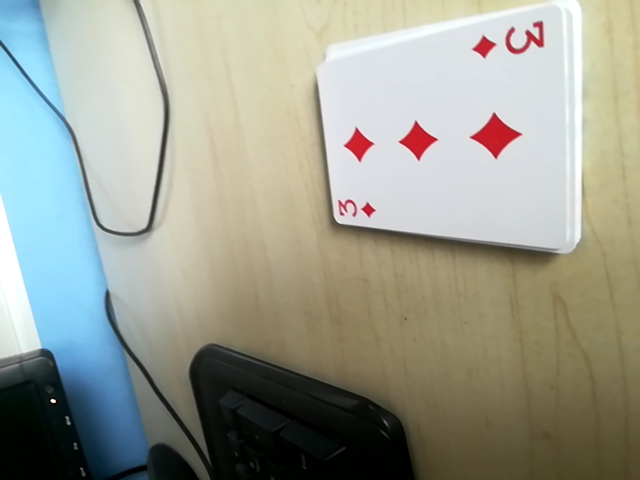fk 3: (473, 13, 549, 68), (330, 188, 383, 223)
